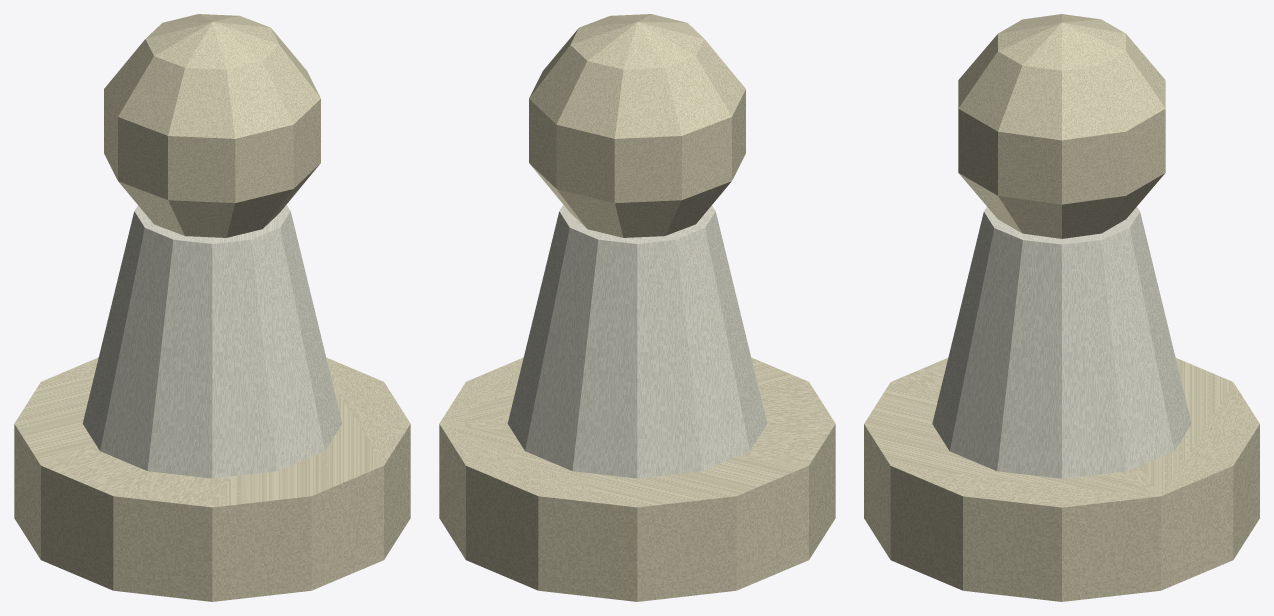
File: chess_pawn.glb
The picture shows the model from 3 angles, left to right: view 1: azimuth 30°, elevation 25°; view 2: azimuth 150°, elevation 25°; view 3: azimuth 270°, elevation 25°; orthographic projection.
Visible parts, largest first — view 1: base, pedestal, head; view 2: base, pedestal, head; view 3: base, pedestal, head.
Boxes of the visible parts, x1,y1,x2,y2 form: base: (14, 357, 410, 601); pedestal: (82, 205, 342, 478); head: (104, 14, 320, 237); base: (439, 357, 835, 601); pedestal: (507, 205, 767, 478); head: (529, 14, 745, 237); base: (864, 358, 1259, 601); pedestal: (932, 207, 1191, 478); head: (958, 14, 1165, 238).
Size of the model in its own units: 0.76 by 1.05 by 0.76.
1 material, 1 textured.
